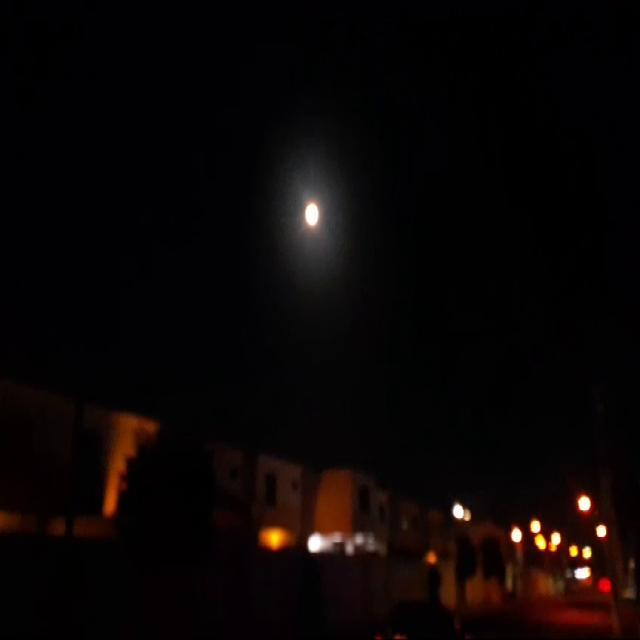moon: (284, 195, 307, 229)
